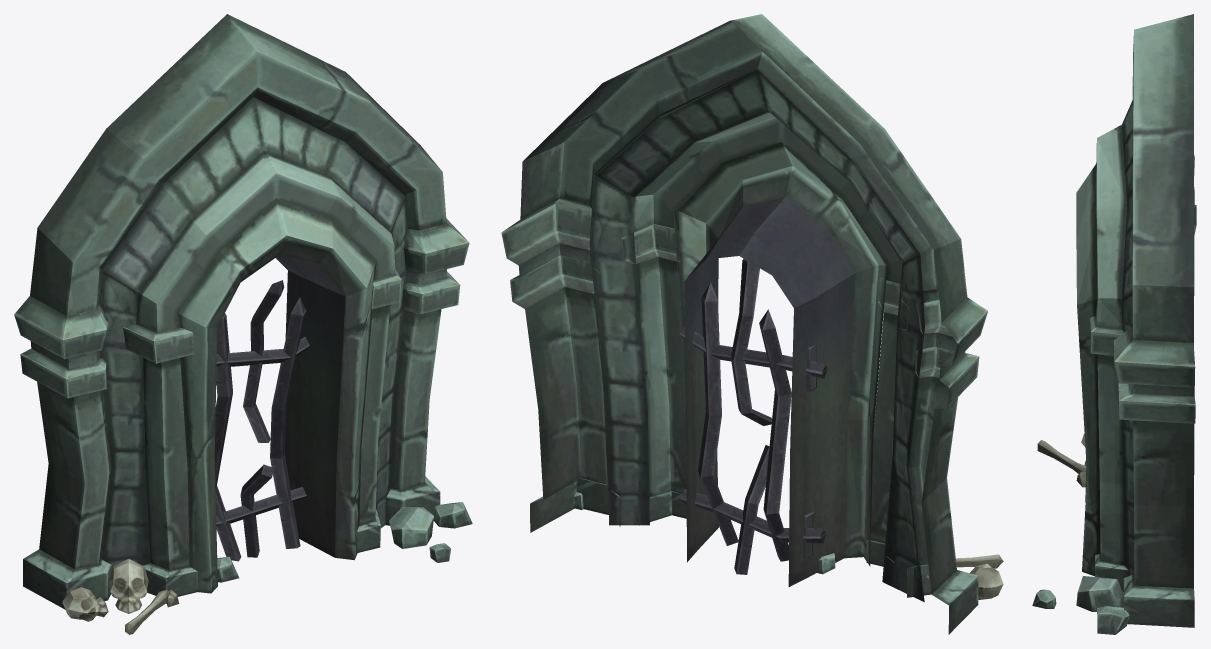
File: crypt_spawner01.fbx
The picture shows the model from 3 angles, left to right: view 1: azimuth 30°, elevation 25°; view 2: azimuth 150°, elevation 25°; view 3: azimuth 270°, elevation 25°; orthographic projection. The views are drawn at different scales.
Visible parts, largest first — view 1: obj0.012; view 2: obj0.012; view 3: obj0.012.
Part boxes in pixels (<box>): obj0.012: <box>14,14,472,634</box>; obj0.012: <box>501,14,1003,634</box>; obj0.012: <box>1032,14,1196,634</box>.
Size of the model in its own units: 4.54 by 5.42 by 1.52.
